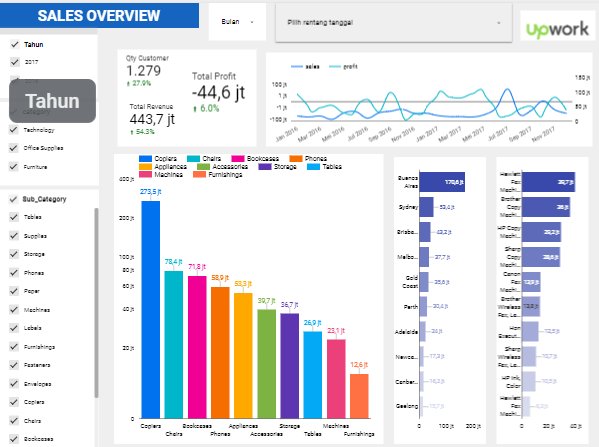

The dashboard page shown, as its layout file describes it:
{"tool":"powerbi","page":{"name":"SO by Revenue","canvas":[1280,720],"ordinal":0},"visuals":[{"type":"textbox","box":[11,26.2,286.3,68.8],"z":0},{"type":"slicer","fields":{"Values":["FACT_CustTrx.category"]},"box":[11,205.1,199.6,99.1],"z":1000},{"type":"lineChart","title":"Sales by Month","fields":{"Category":["FACT_CustTrx.Order Date.Variasi.Hierarki Tanggal.Bulan"],"Y":["Sum(FACT_CustTrx.sales)"],"Y2":["Sum(FACT_CustTrx.profit)"]},"box":[743.2,106,521.6,264.3],"z":2000},{"type":"slicer","fields":{"Values":["FACT_CustTrx.Sub-Category"]},"box":[11,316.6,199.6,377.1],"z":3000},{"type":"slicer","fields":{"Values":["FACT_CustTrx.Order Date.Variasi.Hierarki Tanggal.Tahun"]},"box":[11,106,199.6,79.8],"z":4000},{"type":"slicer","fields":{"Values":["FACT_CustTrx.Order Date.Variasi.Hierarki Tanggal.Bulan"]},"box":[297.3,26.2,967.6,68.8],"z":5000},{"type":"clusteredBarChart","title":"Sales by City","fields":{"Category":["FACT_CustTrx.city"],"Y":["Sum(FACT_CustTrx.sales)"]},"box":[743.2,379.9,261.5,313.8],"z":6000},{"type":"donutChart","title":"Sales by Category","fields":{"Y":["Sum(FACT_CustTrx.sales)"],"Category":["FACT_CustTrx.Sub-Category"]},"box":[217.5,264.3,518.9,429.4],"z":7000},{"type":"clusteredBarChart","title":"Sales by Product","fields":{"Y":["Sum(FACT_CustTrx.sales)"],"Category":["FACT_CustTrx.Product Name"]},"box":[1014.4,379.9,250.5,313.8],"z":8000},{"type":"BBED0A4D4D8D44CE93CF2DAFADEE466C","fields":{"actual":["Sum(FACT_CustTrx.sales)"]},"box":[217.5,106,518.9,148.6],"z":9000}]}

Visuals, with their boxes on the page's 1280x720 design canvas (x1, y1, x2, y2). These are canvas units, not pixel positions in the 599x447 screenshot, which may show the page scaled, cropped or inside an application window:
textbox: 11, 26, 297, 95
slicer - FACT_CustTrx.category: 11, 205, 211, 304
"Sales by Month" lineChart: 743, 106, 1265, 370
slicer - FACT_CustTrx.Sub-Category: 11, 317, 211, 694
slicer - FACT_CustTrx.Order Date.Variasi.Hierarki Tanggal.Tahun: 11, 106, 211, 186
slicer - FACT_CustTrx.Order Date.Variasi.Hierarki Tanggal.Bulan: 297, 26, 1265, 95
"Sales by City" clusteredBarChart: 743, 380, 1005, 694
"Sales by Category" donutChart: 218, 264, 736, 694
"Sales by Product" clusteredBarChart: 1014, 380, 1265, 694
BBED0A4D4D8D44CE93CF2DAFADEE466C - Sum(FACT_CustTrx.sales): 218, 106, 736, 255
